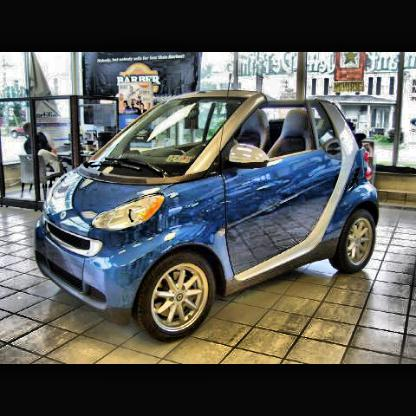smart fortwo Convertible 2012: (36, 92, 380, 345)
